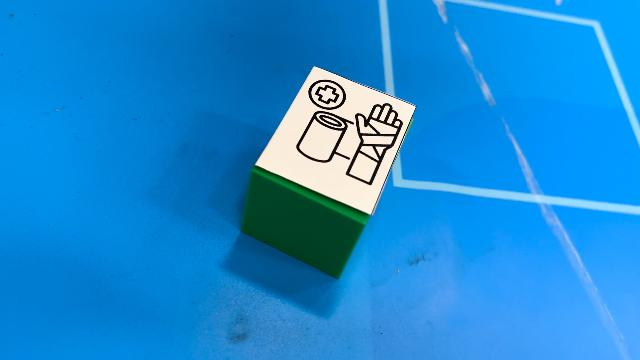bandage: (240, 66, 416, 278)
